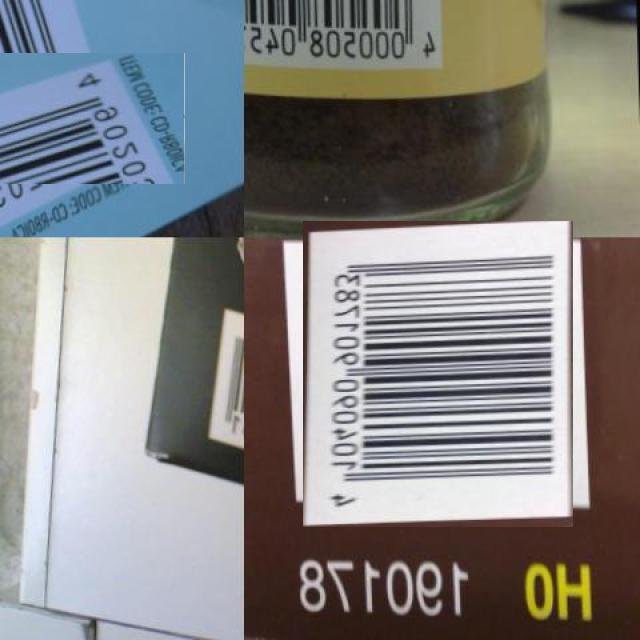Barcode: (294, 229, 582, 518), (0, 27, 159, 212), (244, 0, 448, 71)
